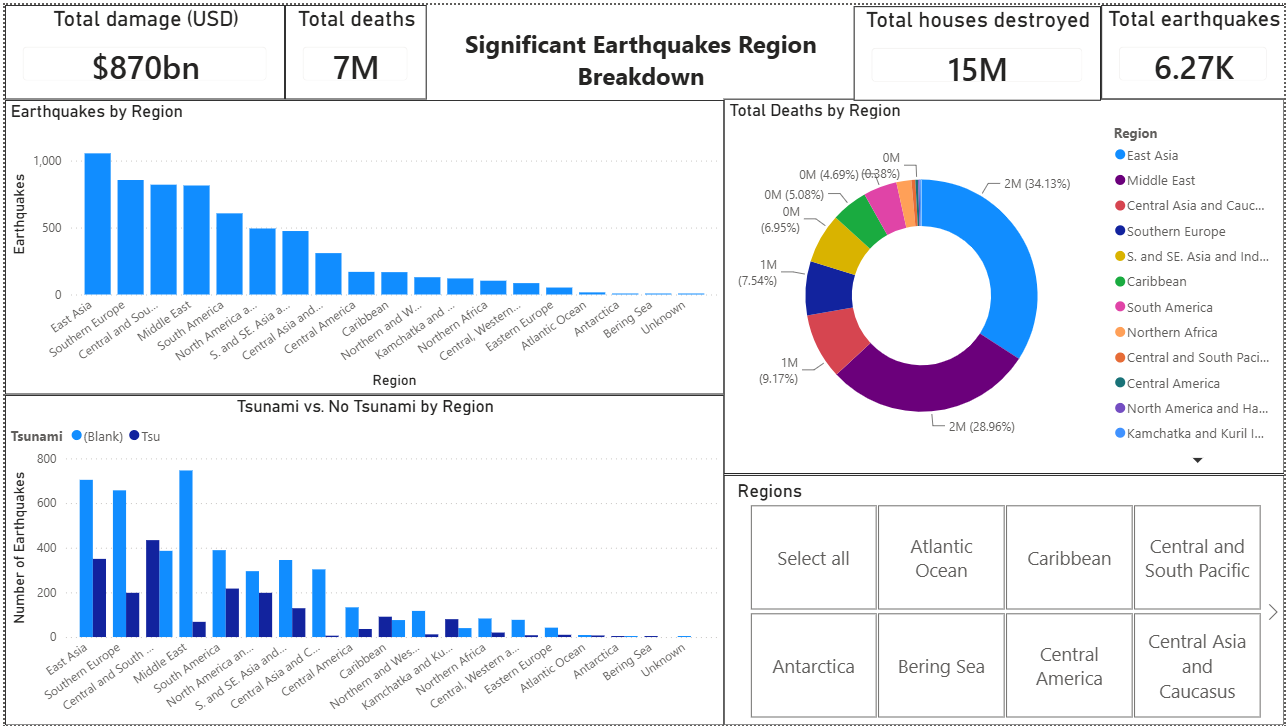

The dashboard page shown, as its layout file describes it:
{"tool":"powerbi","page":{"name":"Region Breakdown","canvas":[1280,720],"ordinal":1},"visuals":[{"type":"cardVisual","title":"Total damage (USD)","fields":{"Data":["Sum(total_earthquakes.total_damage_millions_dollars)"]},"box":[0,0,280,94.2],"z":0},{"type":"cardVisual","title":"Total deaths","fields":{"Data":["Sum(total_earthquakes.total_deaths)"]},"box":[280,0,141.8,94.2],"z":1000},{"type":"cardVisual","title":"Total earthquakes","fields":{"Data":["CountNonNull(total_earthquakes.id)"]},"box":[1095.7,0,184.6,94.2],"z":3000},{"type":"clusteredColumnChart","title":"Tsunami vs. No Tsunami by Region","fields":{"Series":["total_earthquakes.flag_tsunami"],"Category":["total_earthquakes.region_name"],"Y":["CountNonNull(total_earthquakes.id)"]},"box":[0,390.1,719,330.2],"z":4000},{"type":"textbox","box":[421.9,0,426.8,94.2],"z":5000},{"type":"donutChart","fields":{"Category":["total_earthquakes.region_name"],"Y":["Sum(total_earthquakes.total_deaths)"]},"box":[719,94.2,561.3,375.4],"z":6000},{"type":"slicer","fields":{"Values":["total_earthquakes.region_name"]},"box":[719,469.6,561.3,250.7],"z":7000},{"type":"clusteredColumnChart","fields":{"Category":["total_earthquakes.region_name"],"Y":["CountNonNull(total_earthquakes.id)"]},"box":[0,95.4,719,294.7],"z":8000},{"type":"cardVisual","title":"Total houses destroyed","fields":{"Data":["Sum(total_earthquakes.total_houses_destroyed)"]},"box":[848.6,1.2,247,94.2],"z":8500}]}

Visuals, with their boxes in screenshot pixels (x1, y1, x2, y2), scaled from the page's 1280x720 canvas onto the 1287x727 screenshot:
"Total damage (USD)" cardVisual: {"left": 0, "top": 0, "right": 282, "bottom": 95}
"Total deaths" cardVisual: {"left": 282, "top": 0, "right": 424, "bottom": 95}
"Total earthquakes" cardVisual: {"left": 1102, "top": 0, "right": 1286, "bottom": 95}
"Tsunami vs. No Tsunami by Region" clusteredColumnChart: {"left": 0, "top": 394, "right": 723, "bottom": 726}
textbox: {"left": 424, "top": 0, "right": 853, "bottom": 95}
donutChart - total_earthquakes.region_name x Sum(total_earthquakes.total_deaths): {"left": 723, "top": 95, "right": 1286, "bottom": 474}
slicer - total_earthquakes.region_name: {"left": 723, "top": 474, "right": 1286, "bottom": 726}
clusteredColumnChart - total_earthquakes.region_name x CountNonNull(total_earthquakes.id): {"left": 0, "top": 96, "right": 723, "bottom": 394}
"Total houses destroyed" cardVisual: {"left": 853, "top": 1, "right": 1102, "bottom": 96}
